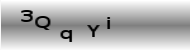3: (18, 9, 33, 23)
Q: (33, 15, 51, 31)
Y: (86, 23, 100, 38)
i: (105, 15, 111, 30)
q: (59, 28, 73, 43)
